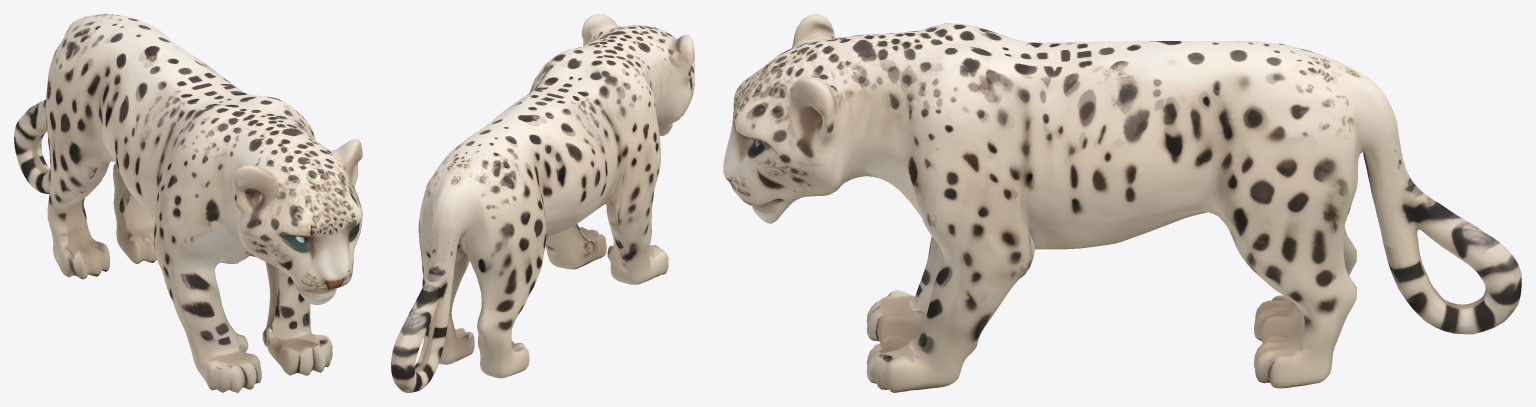
Rendered from snowLeopard.glb.
The picture shows the model from 3 angles, left to right: view 1: azimuth 30°, elevation 25°; view 2: azimuth 150°, elevation 25°; view 3: azimuth 270°, elevation 25°; orthographic projection. The views are drawn at different scales.
Visible parts, largest first — view 1: model; view 2: model; view 3: model.
Boxes of the visible parts, x1,y1,x2,y2 form: model: [14, 14, 362, 392]; model: [391, 14, 694, 392]; model: [723, 14, 1521, 392].
Bounding box in the file's own units: 0.524 × 0.8347 × 1.89.
1 material, 1 textured.
